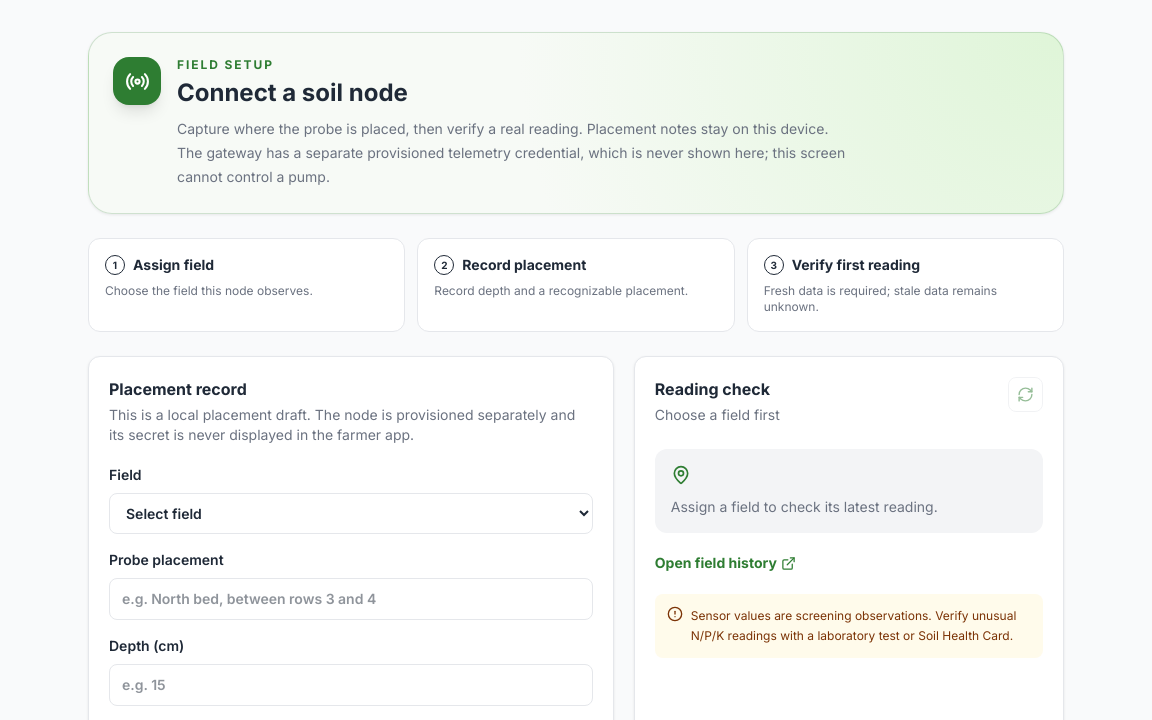
it: DeviceOnboarding › shows an unknown state until a field is assigned, then renders sourced history
Expected: the text "Assign a field to check its latest reading." is shown, [671,498,938,515]
Select "North field · Wheat" in the dropdown labelled "Field" at (351, 514), box [109,493,593,534]
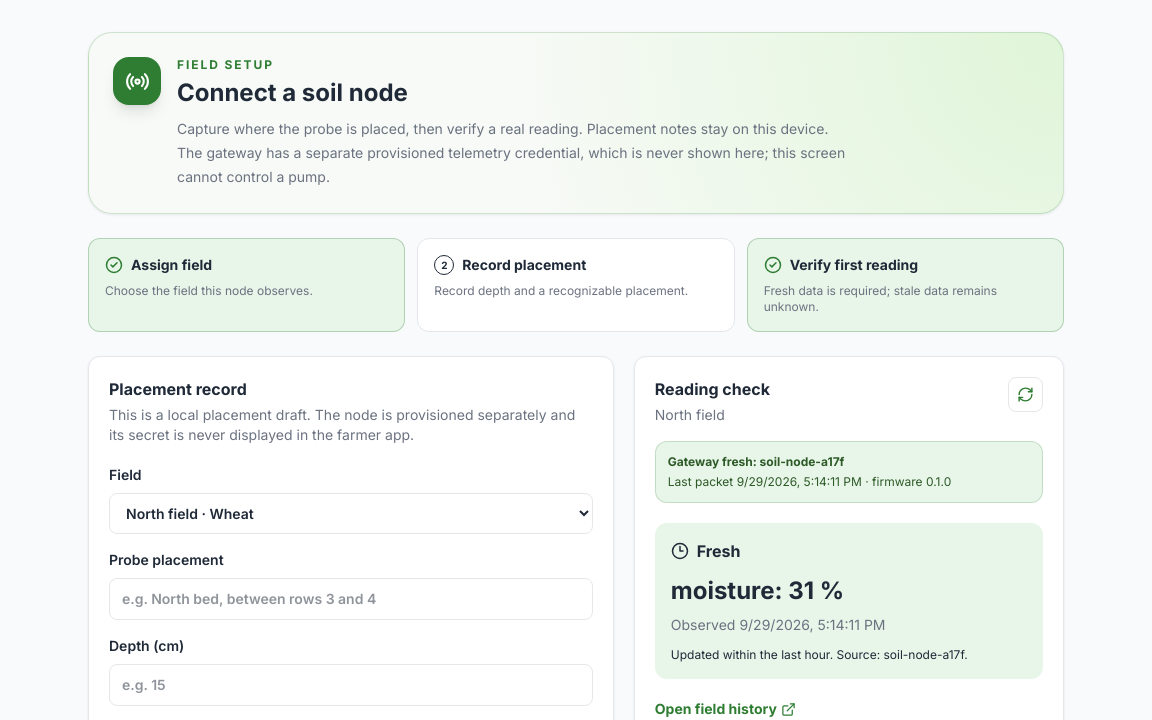
Result: the text "Gateway fresh: soil-node-a17f" is shown at [668,454,844,469]
